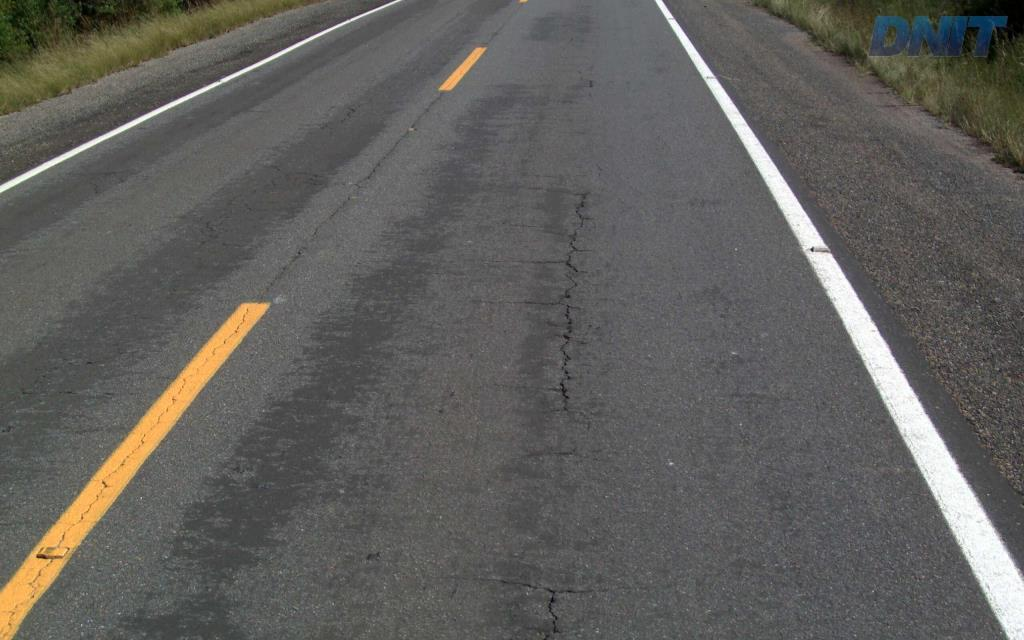crack: (538, 288, 580, 380), (522, 587, 576, 639)
